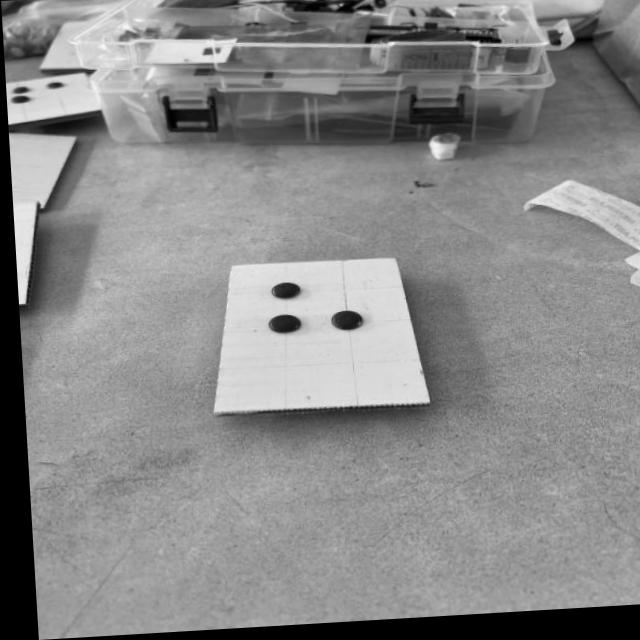braiile: (210, 262, 418, 411)
